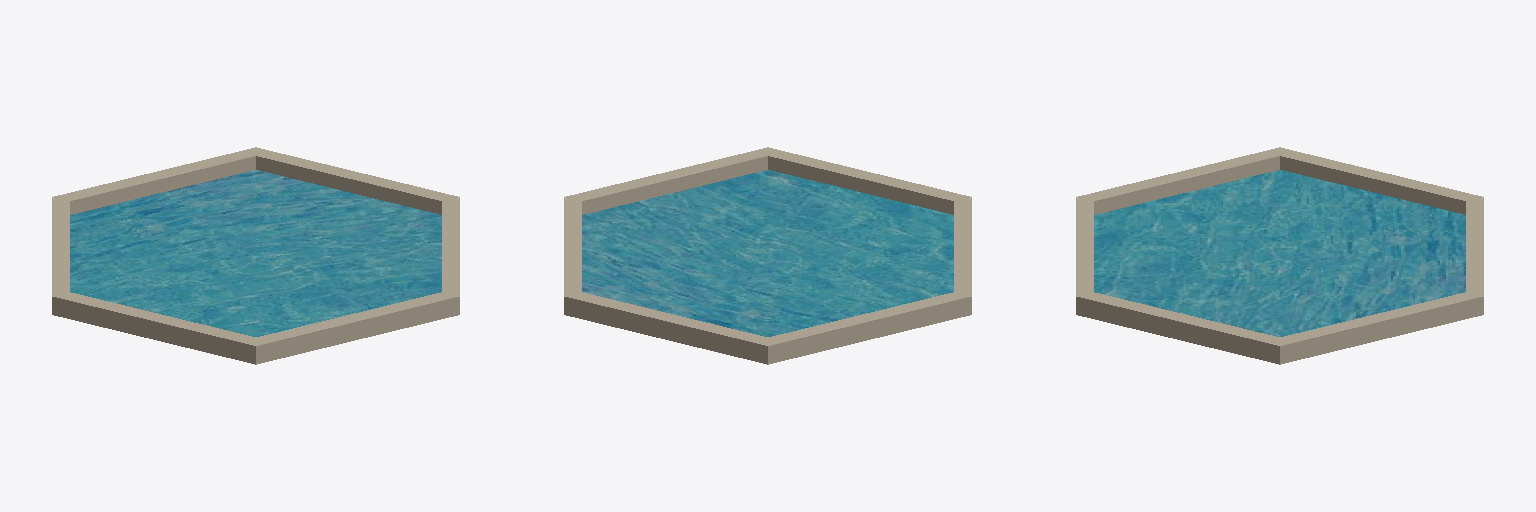
3 views of the same model, side by side, from view 1: azimuth 30°, elevation 25°; view 2: azimuth 150°, elevation 25°; view 3: azimuth 270°, elevation 25° (orthographic).
Parts seen in each view (by area): view 1: Gengon01, Tube01; view 2: Gengon01, Tube01; view 3: Gengon01, Tube01.
Part boxes in pixels (x1,y1,x2,y2): Gengon01: (70,170,441,336); Tube01: (52,147,459,364); Gengon01: (582,170,953,336); Tube01: (564,147,971,364); Gengon01: (1094,170,1465,336); Tube01: (1076,147,1483,364).
Bounding box in the file's own units: 2318 × 101 × 2008.
2 materials, 1 textured.